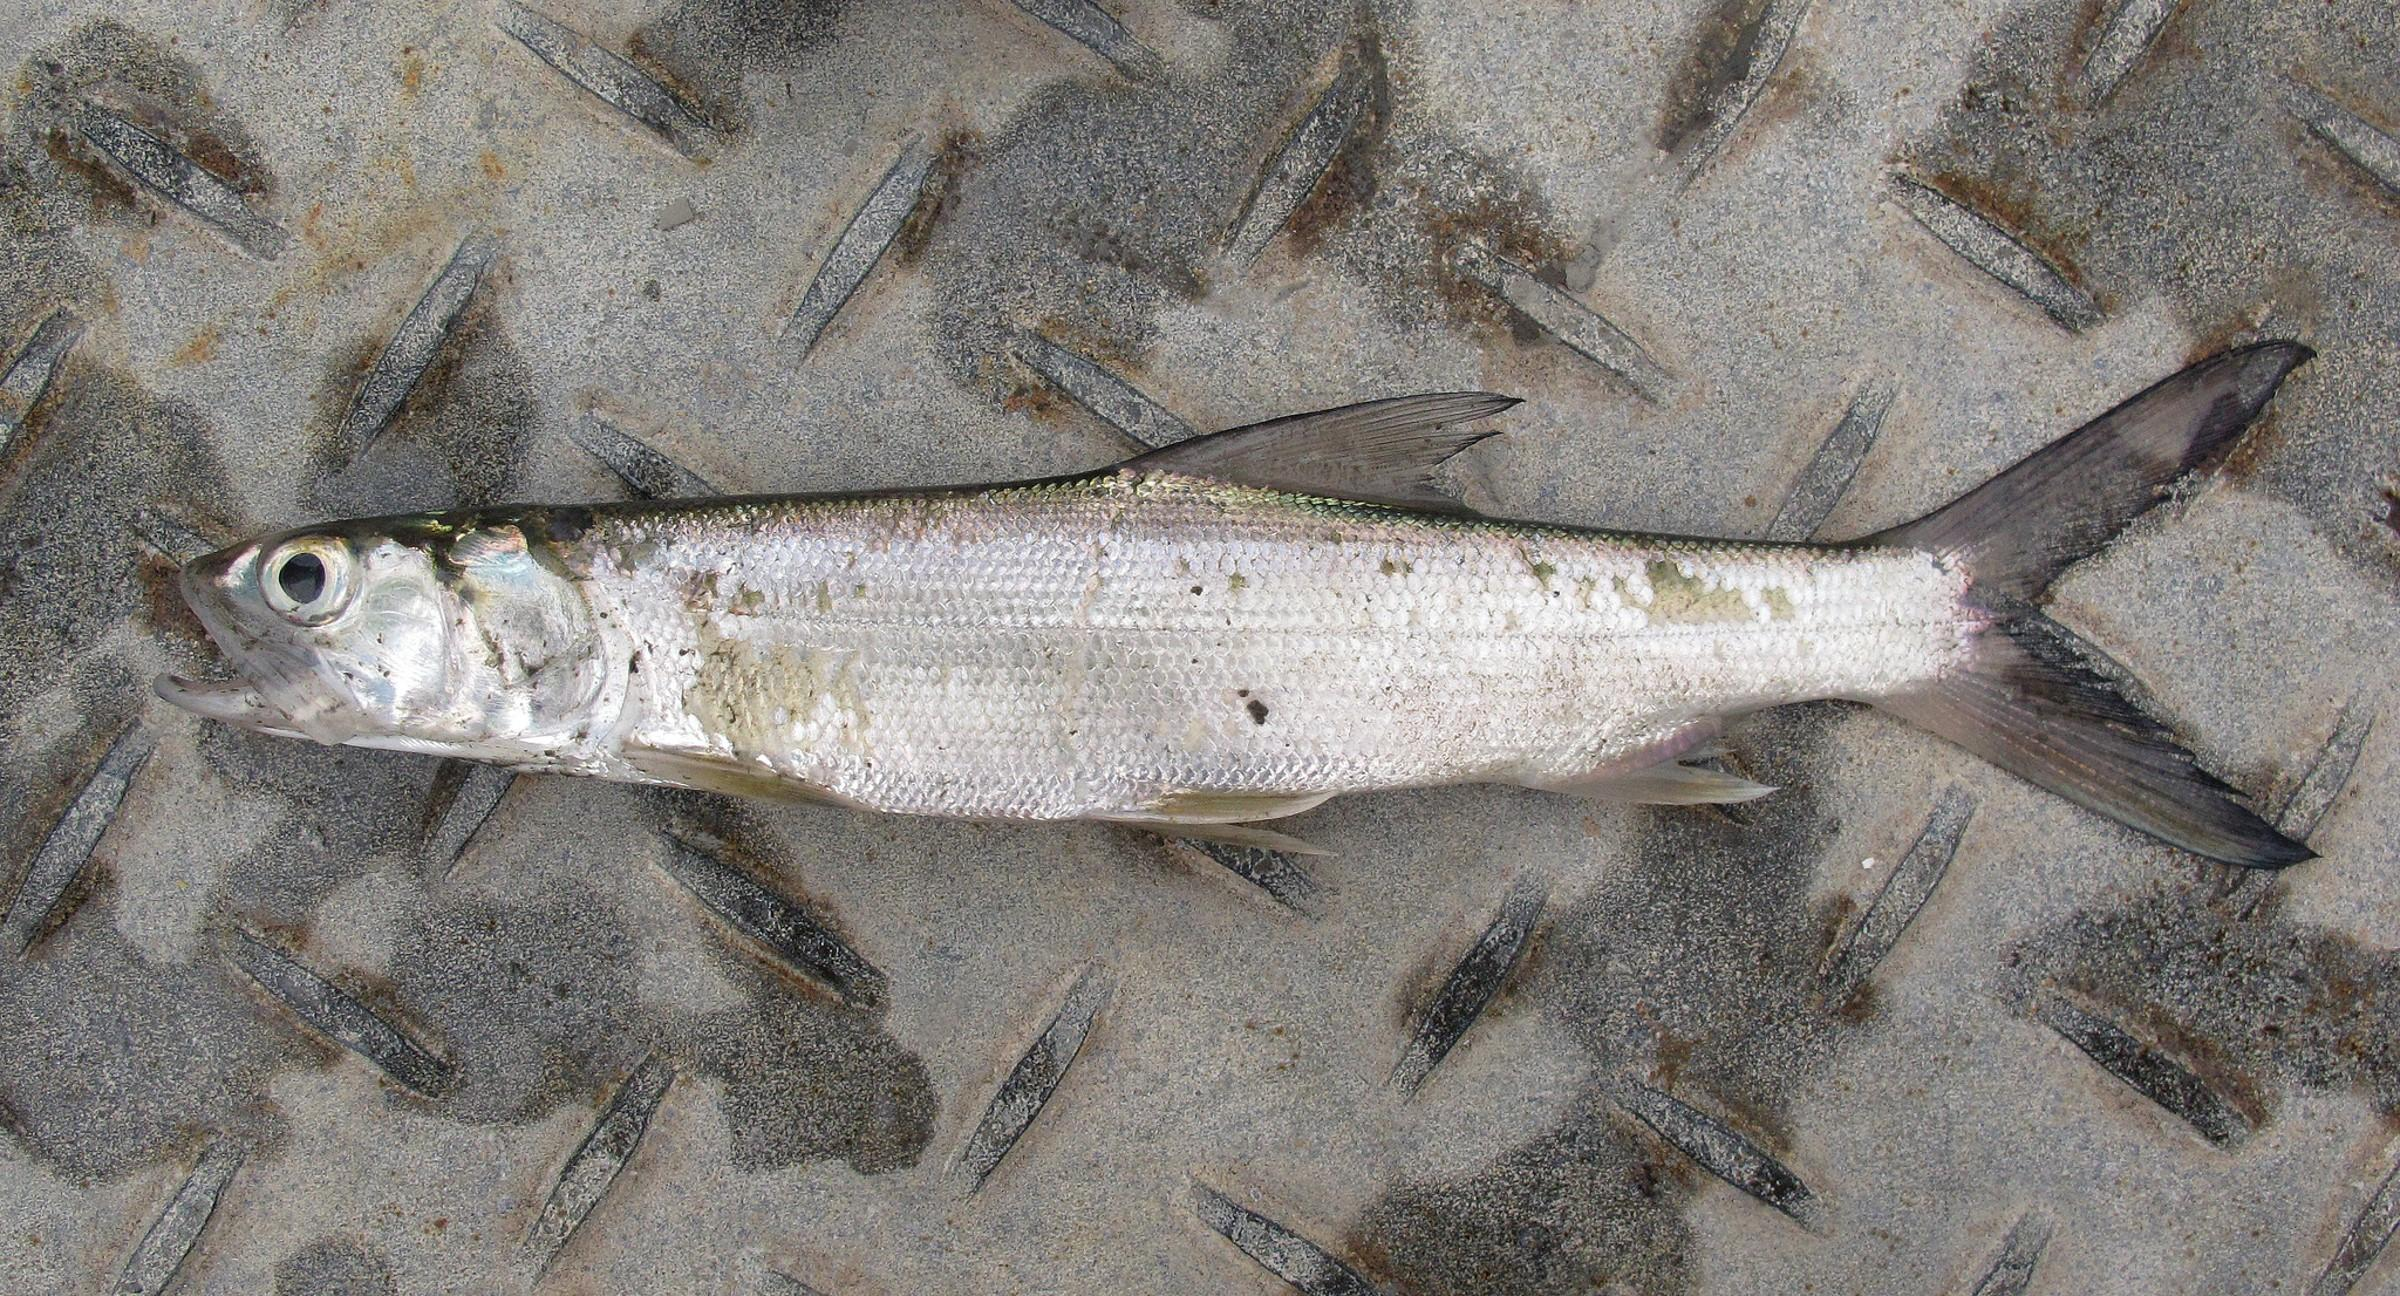Tenpounder: (161, 319, 2338, 907)
